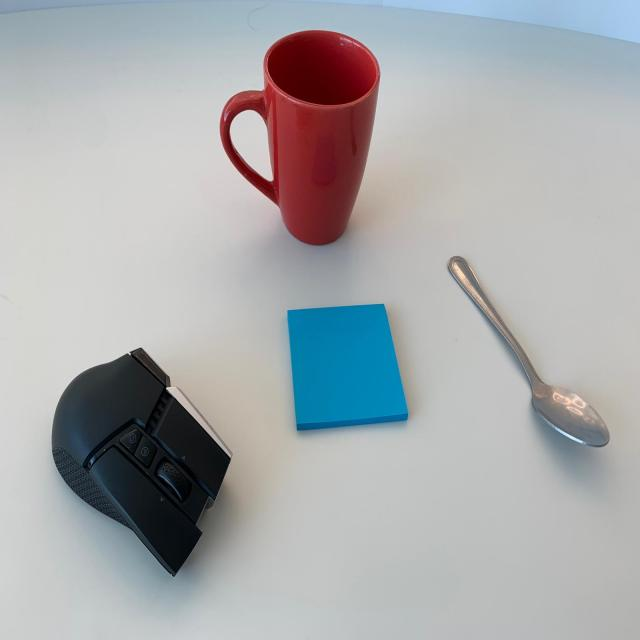Cup: (219, 20, 394, 254)
Mouse: (44, 335, 248, 596)
Spoon: (436, 243, 624, 470)
